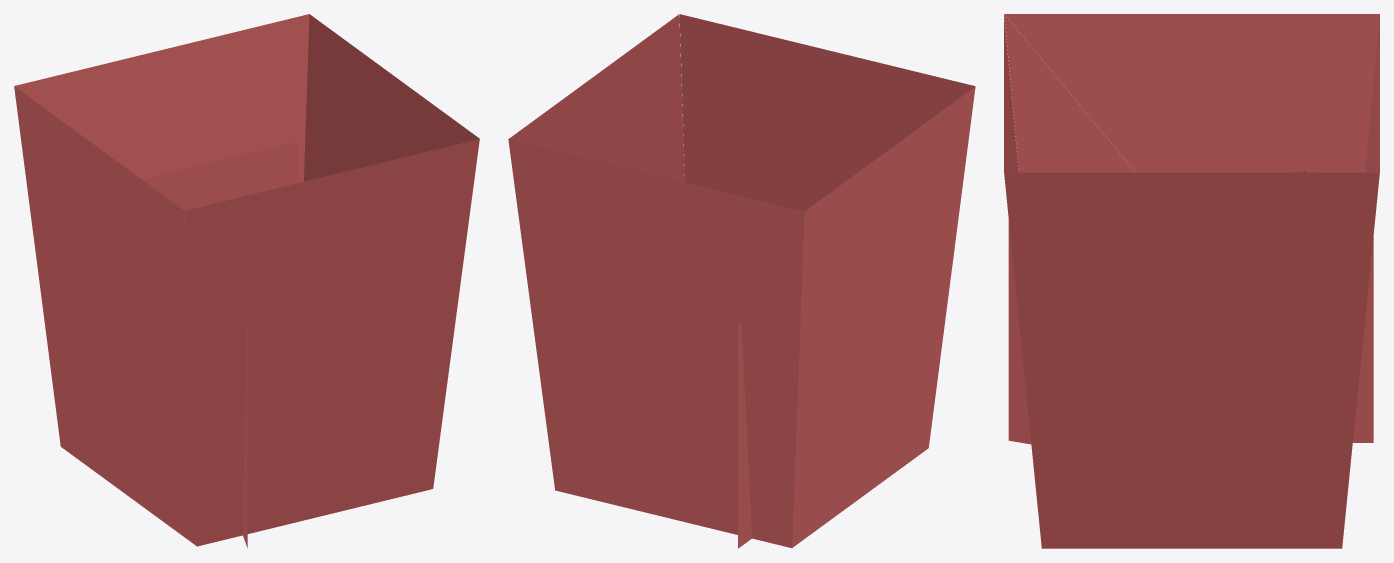
File: snow_slider.glb
3 views of the same model, side by side, from view 1: azimuth 30°, elevation 25°; view 2: azimuth 150°, elevation 25°; view 3: azimuth 270°, elevation 25° (orthographic). The views are drawn at different scales.
Visible parts, largest first — view 1: snow_slider_col; view 2: snow_slider_col; view 3: snow_slider_col.
Boxes of the visible parts, x1=… form: snow_slider_col: x1=14, y1=14, x2=479, y2=547; snow_slider_col: x1=508, y1=14, x2=975, y2=548; snow_slider_col: x1=1004, y1=14, x2=1379, y2=548.
Bounding box in the file's own units: 20 × 23.02 × 20.
